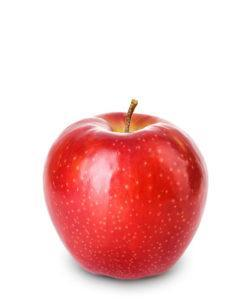apple: (42, 107, 208, 278)
